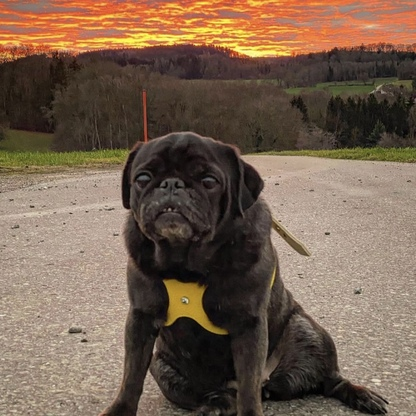Pug: (90, 125, 393, 416)
